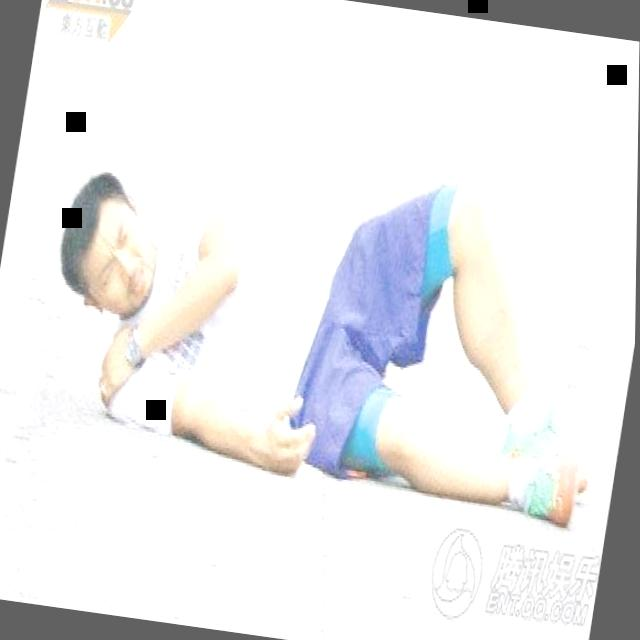Fall-Detected: (9, 101, 639, 530)
